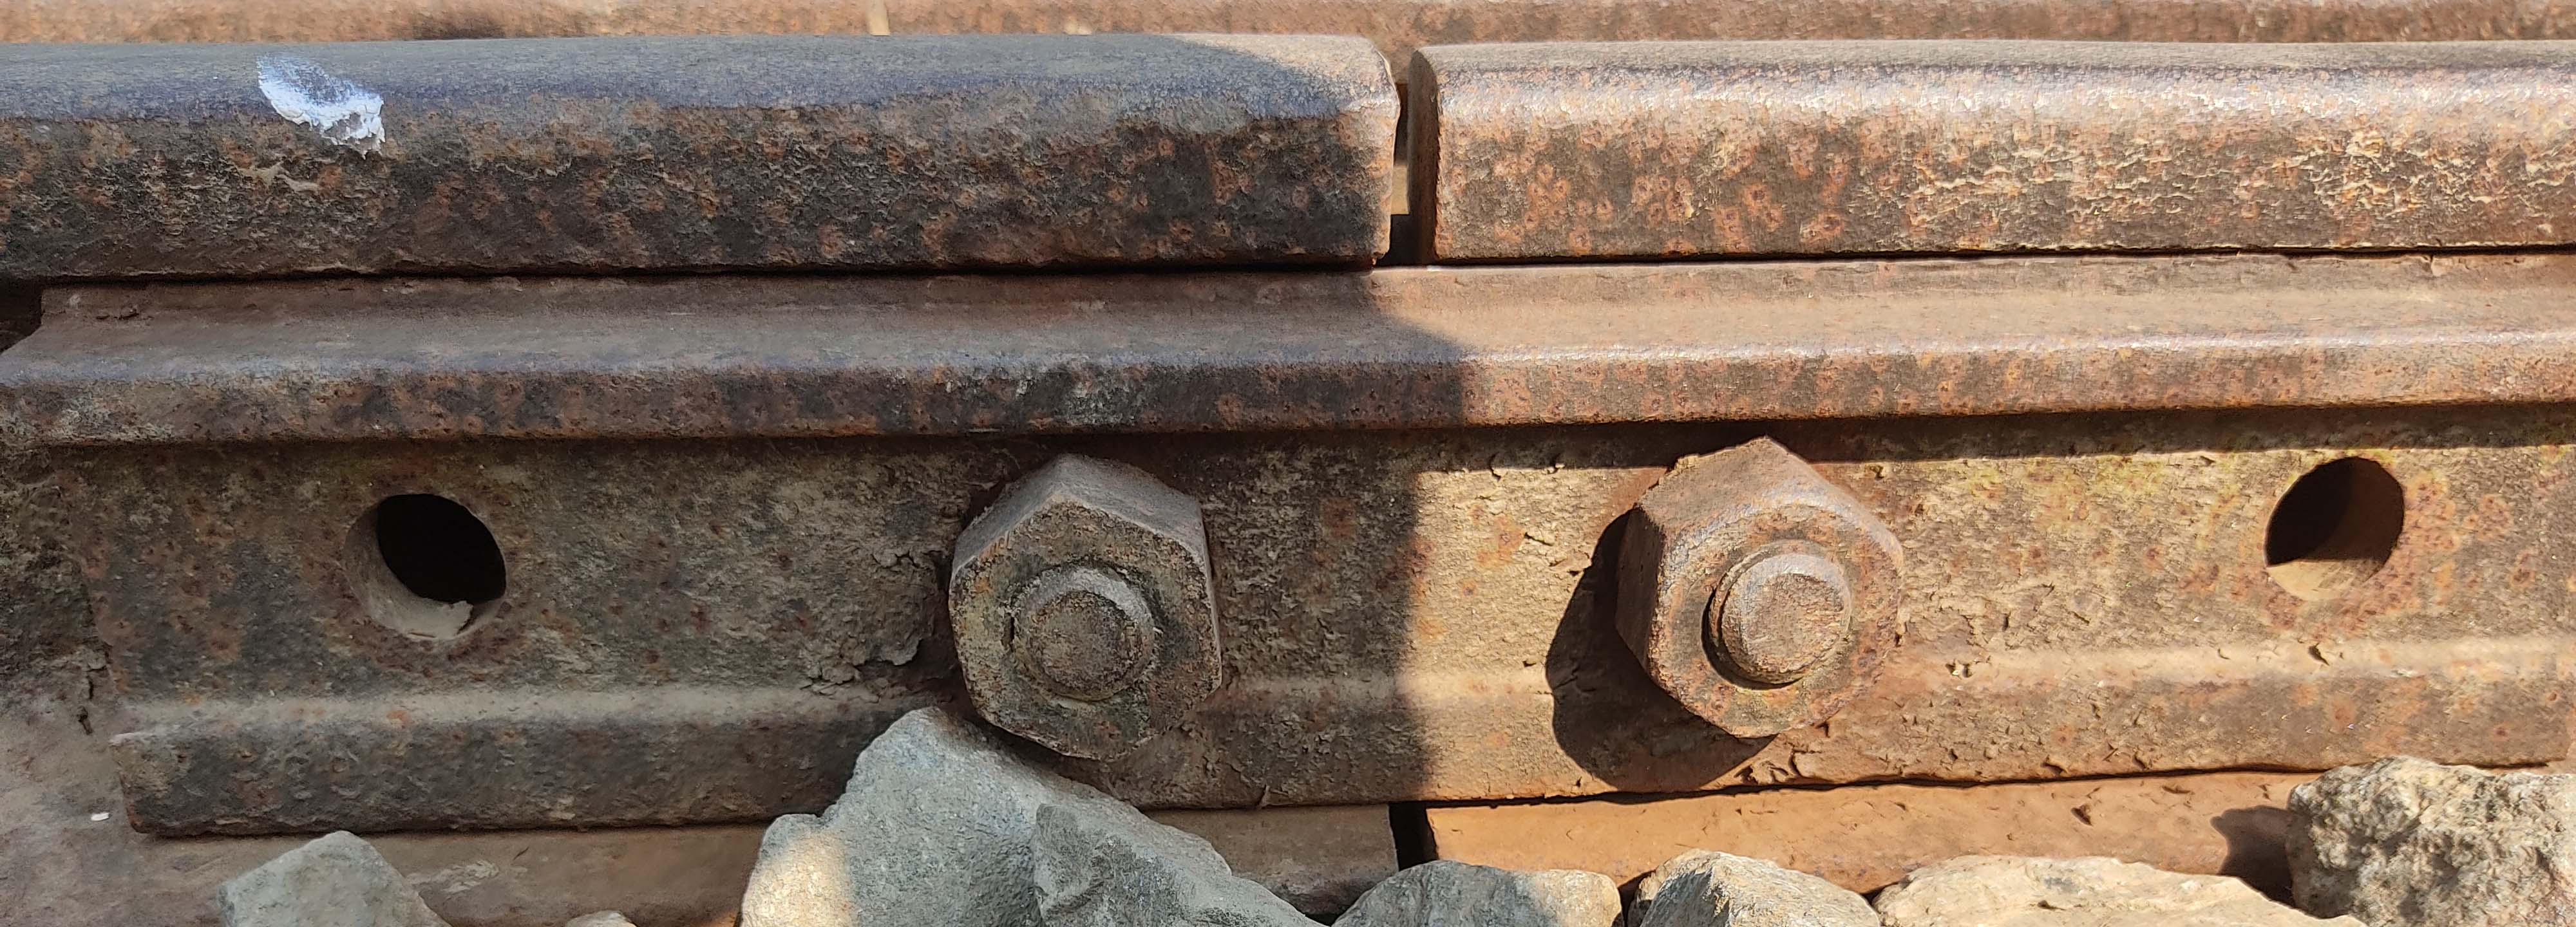error2: (1347, 26, 1511, 297)
